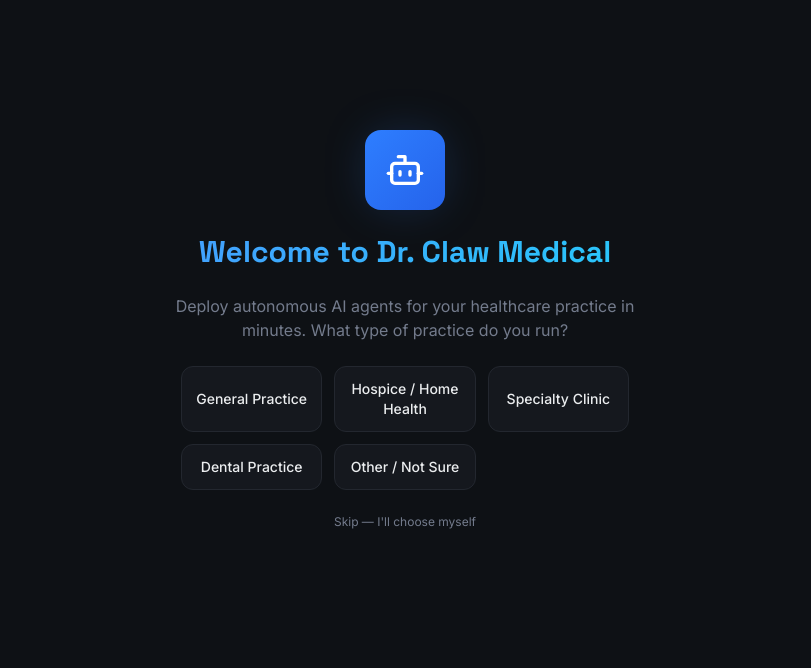
Onboarding Page › navigates to pick-pack step when practice type is selected
Click the button "General Practice".
click(252, 399)  # box [181, 366, 322, 432]
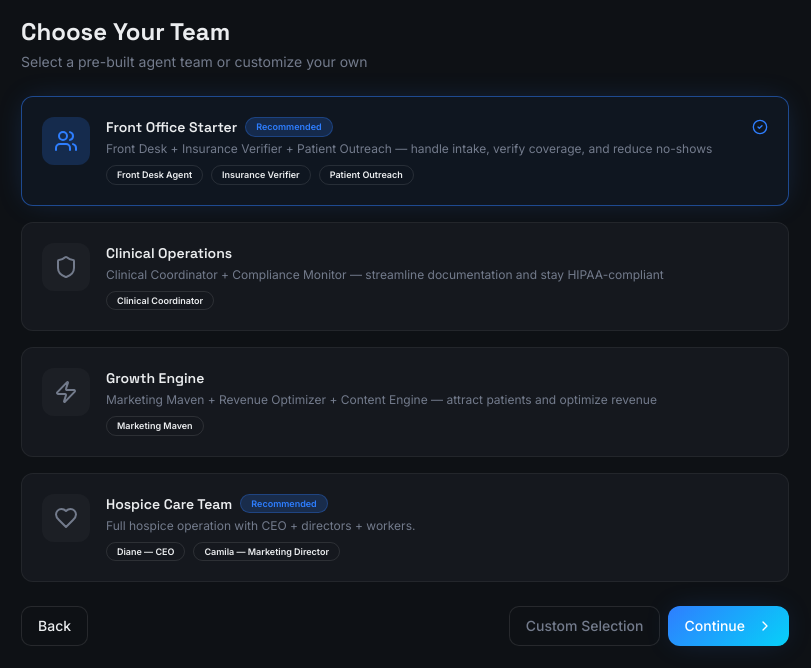
Now the heading "Choose Your Team" is shown, box [21, 16, 230, 47]
